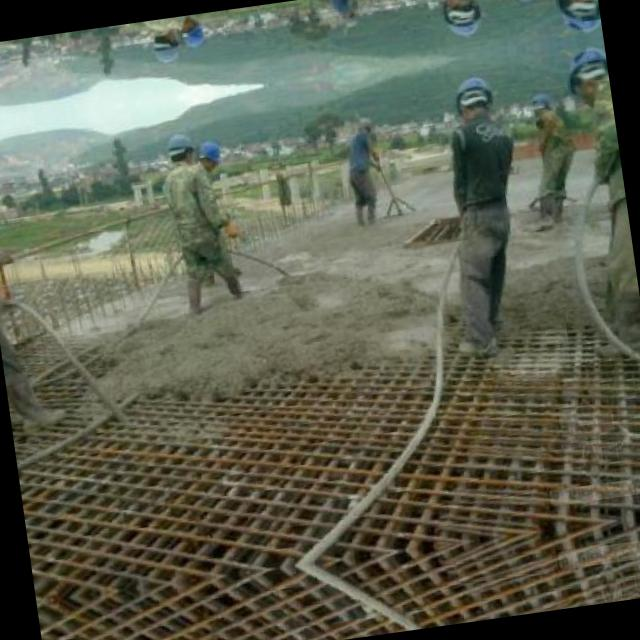helmet: (566, 44, 610, 102), (451, 74, 494, 122), (439, 0, 482, 40), (557, 0, 600, 37), (173, 13, 210, 55), (192, 135, 226, 179), (163, 127, 193, 174), (148, 23, 178, 70), (525, 90, 552, 125)
